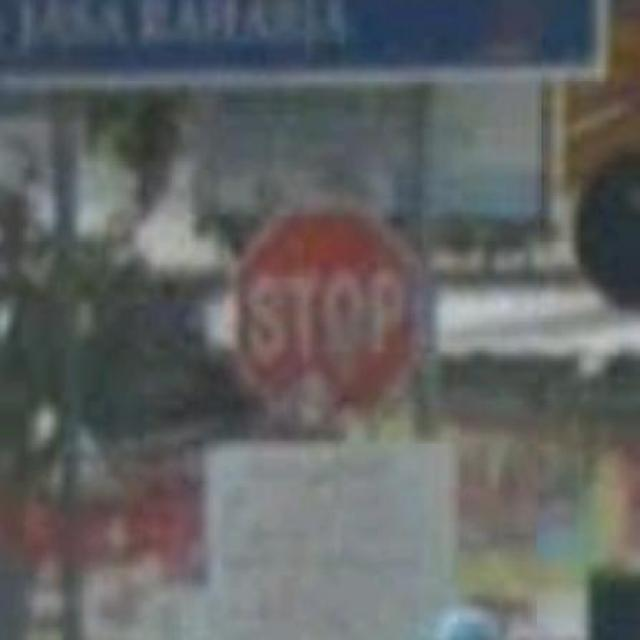traffic sign: (246, 198, 426, 407)
